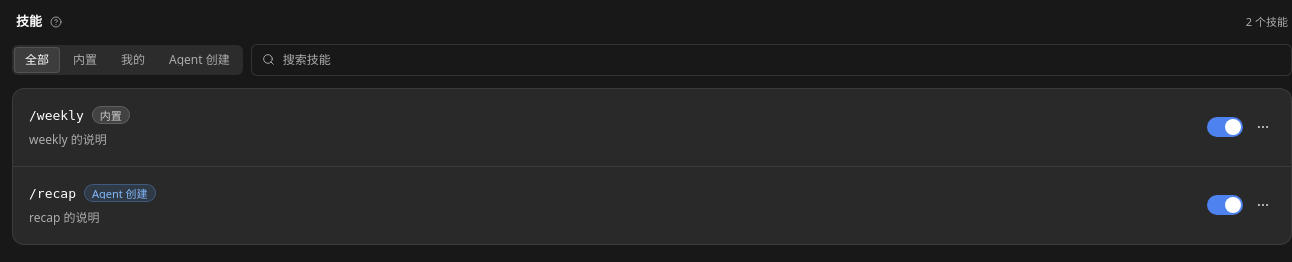
Test case: SkillsPage › filters by source and search
This screenshot has width=1292, height=262.
Expected: the text "/weekly" is shown, [29, 108, 84, 122]
Click the radio button labelled "Agent 创建". click: coordinates (199, 60)
box: [158, 46, 241, 72]
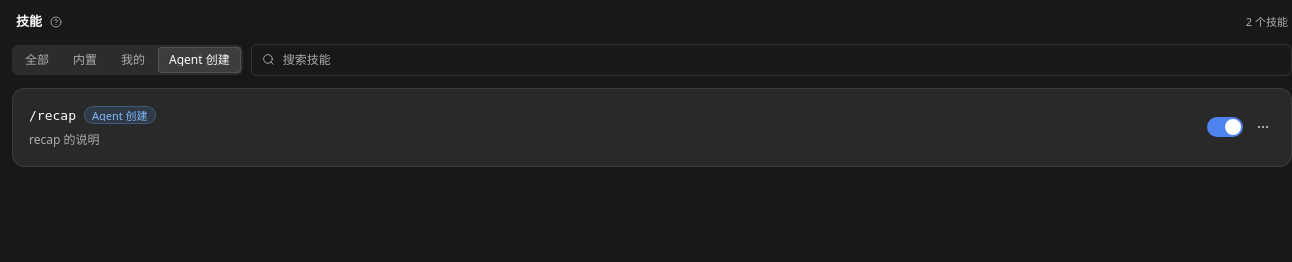
Expected: the text "/recap" is shown, [29, 108, 76, 122]
Result: the text "/weekly" is gone
Click the radio button labelled "全部". click: coordinates (37, 60)
box: [14, 46, 60, 72]
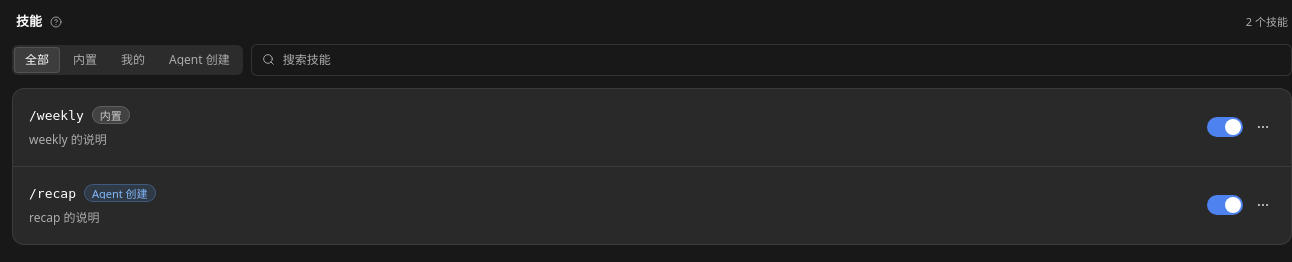
Type "zzz" into the search field labelled "搜索技能". click: coordinates (784, 60)
box: [283, 44, 1285, 74]
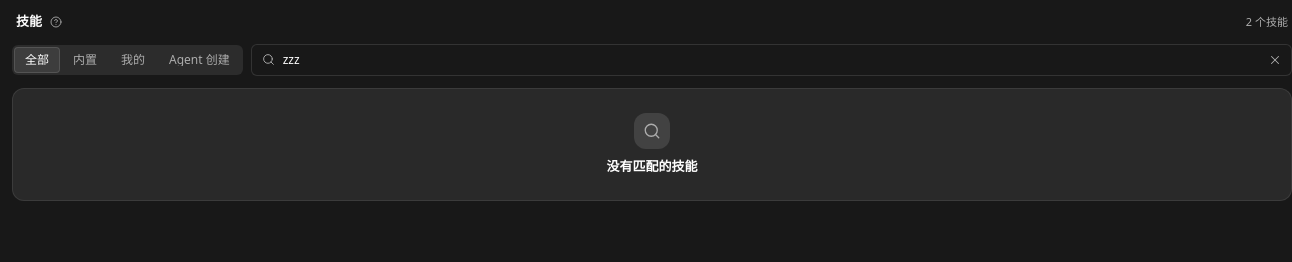
Result: the text "没有匹配的技能" is shown at [606, 156, 698, 176]
